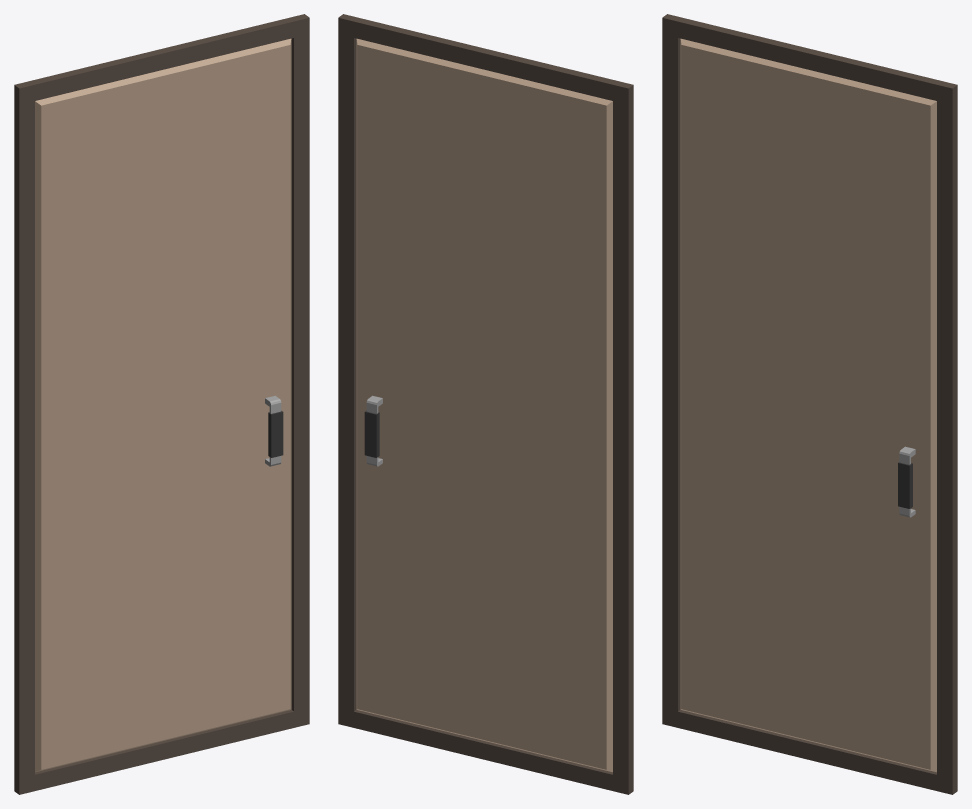
File: door001.glb
3 views of the same model, side by side, from view 1: azimuth 30°, elevation 25°; view 2: azimuth 150°, elevation 25°; view 3: azimuth 330°, elevation 25° (orthographic).
Visible parts, largest first — view 1: door.001; view 2: door.001; view 3: door.001.
Part boxes in pixels (x1,y1,x2,y2): door.001: (14, 14, 309, 794); door.001: (338, 14, 633, 794); door.001: (662, 14, 957, 794).
Bounding box in the file's own units: 0.8605 × 2 × 0.1102.
1 material, 1 textured.
